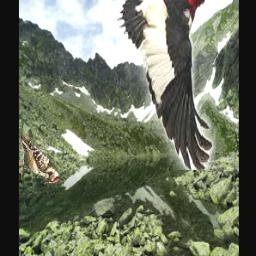Woodpecker: (116, 0, 216, 171), (21, 134, 60, 185)
